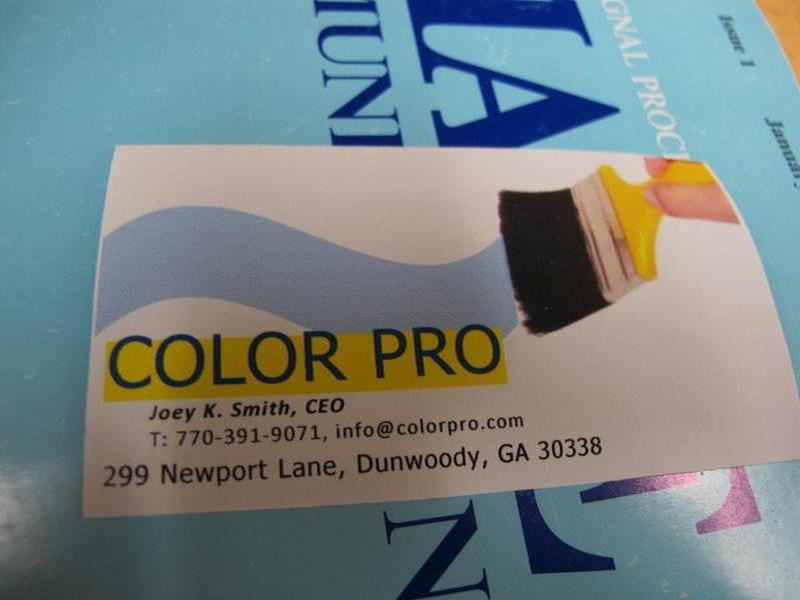card: (83, 134, 798, 516)
